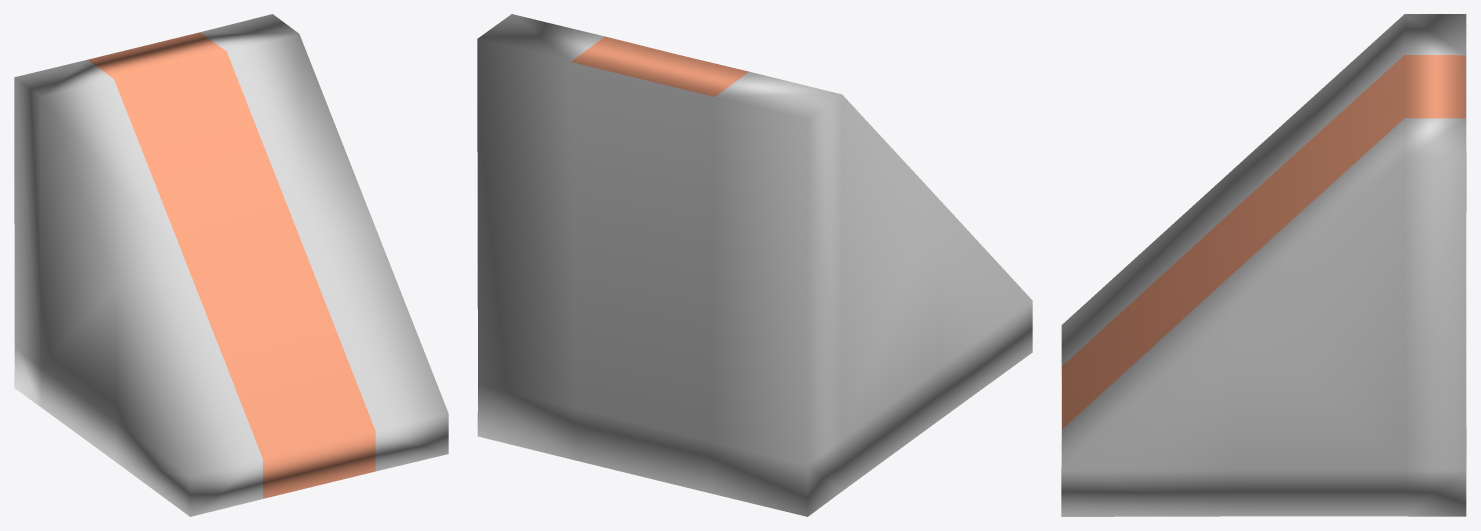
3 views of the same model, side by side, from view 1: azimuth 30°, elevation 25°; view 2: azimuth 150°, elevation 25°; view 3: azimuth 270°, elevation 25° (orthographic). The views are drawn at different scales.
Visible parts, largest first — view 1: cube5; view 2: cube5; view 3: cube5.
Part boxes in pixels (bbox=[...]): cube5: bbox=[14, 14, 448, 516]; cube5: bbox=[477, 14, 1032, 516]; cube5: bbox=[1061, 14, 1466, 516].
Bounding box in the file's own units: 200 × 230 × 236.
